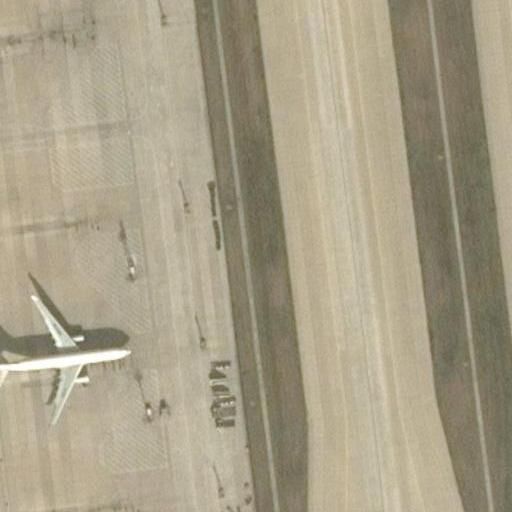Aircraft: (0, 274, 141, 427)
